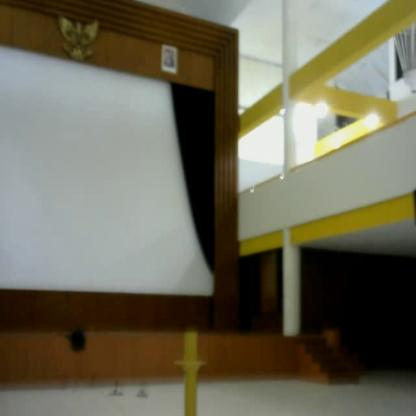pole: (174, 331, 210, 416)
